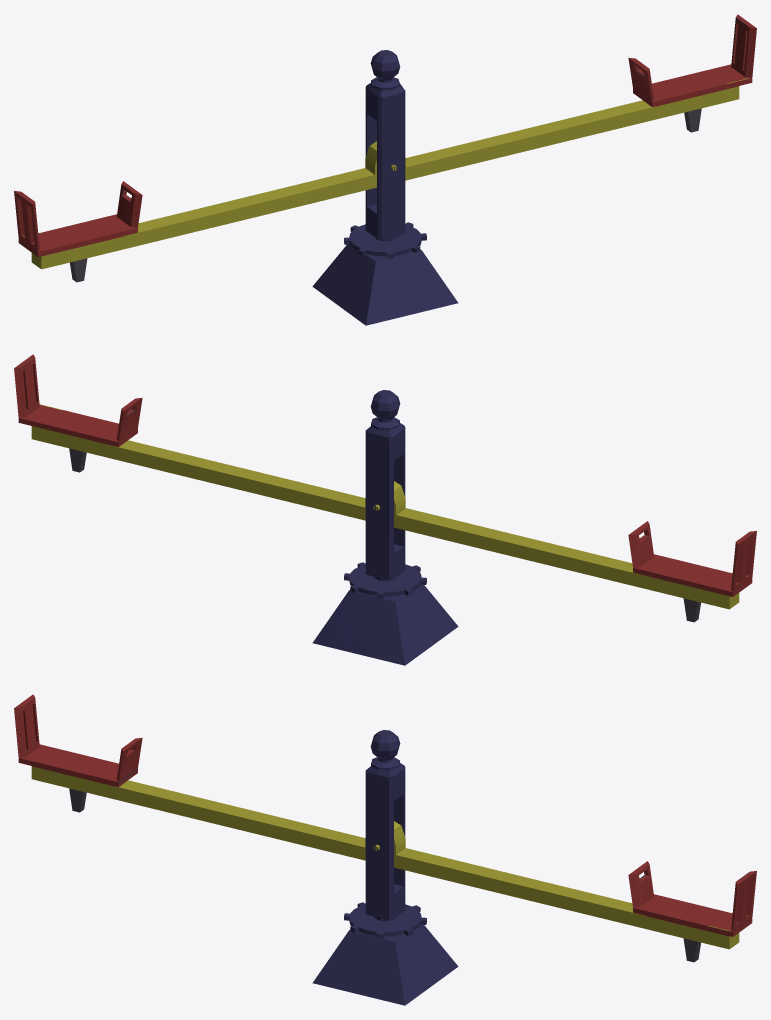
The model's file is seesaw.fbx.
The picture shows the model from 3 angles, top to bottom: view 1: azimuth 30°, elevation 25°; view 2: azimuth 150°, elevation 25°; view 3: azimuth 330°, elevation 25°; orthographic projection.
Visible parts, largest first — view 1: Cube.005, Cube.023; view 2: Cube.005, Cube.023; view 3: Cube.005, Cube.023.
Part boxes in pixels (x1,y1,x2,y2): Cube.005: (14,14,756,282); Cube.023: (312,50,458,325); Cube.005: (14,354,756,622); Cube.023: (312,390,458,665); Cube.005: (14,694,756,962); Cube.023: (312,730,458,1005).
Size of the model in its own units: 1718 by 548 by 220.
